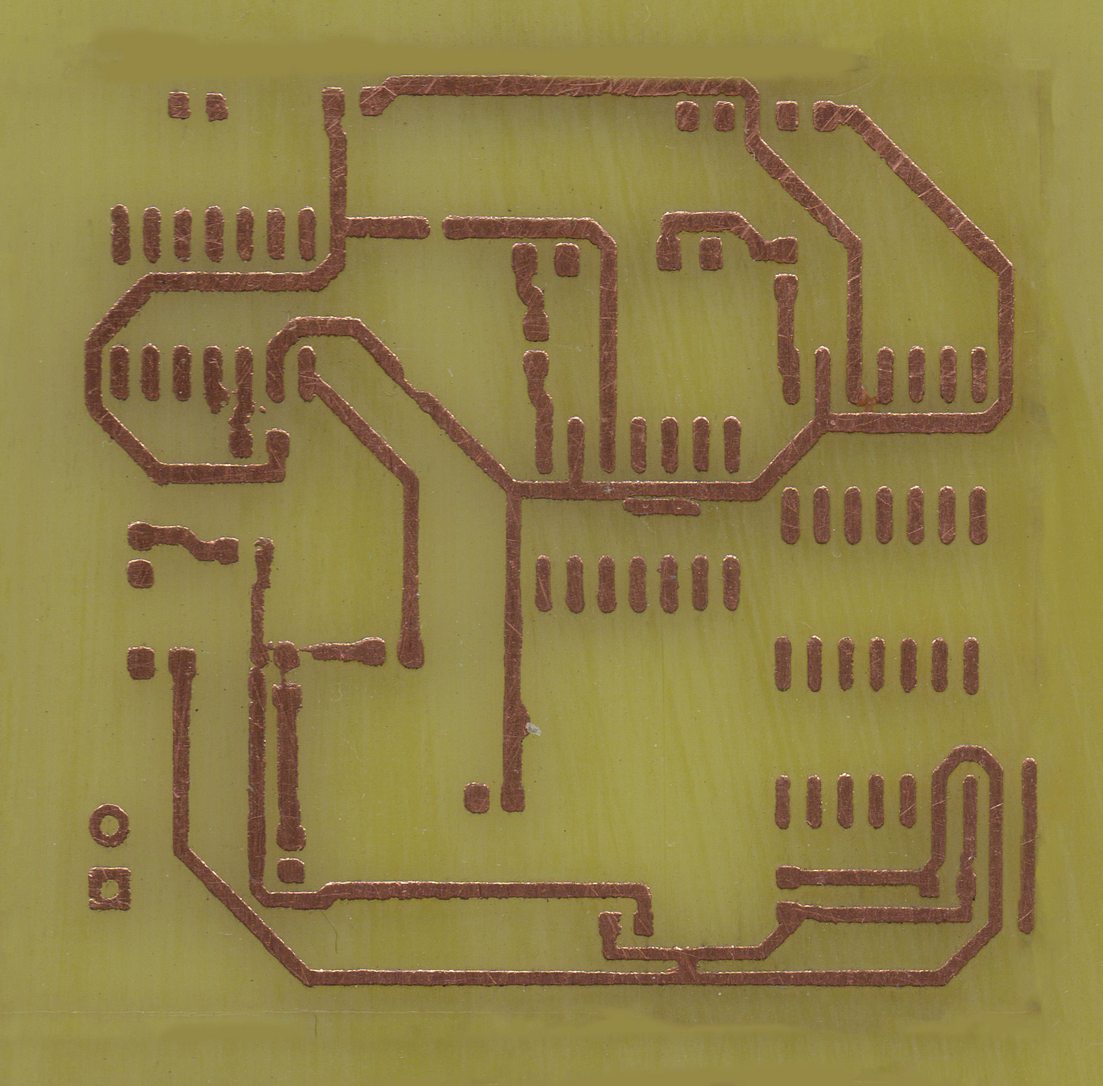mouse_bite: (392, 363, 437, 406), (290, 641, 317, 668)
open_circuit: (420, 214, 456, 242)
short: (671, 945, 705, 989), (857, 393, 879, 435)
spur: (500, 691, 535, 742)
spurious_copper: (1018, 756, 1039, 940), (620, 494, 707, 524)
